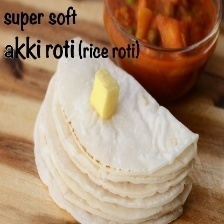roti: (29, 27, 211, 224)
